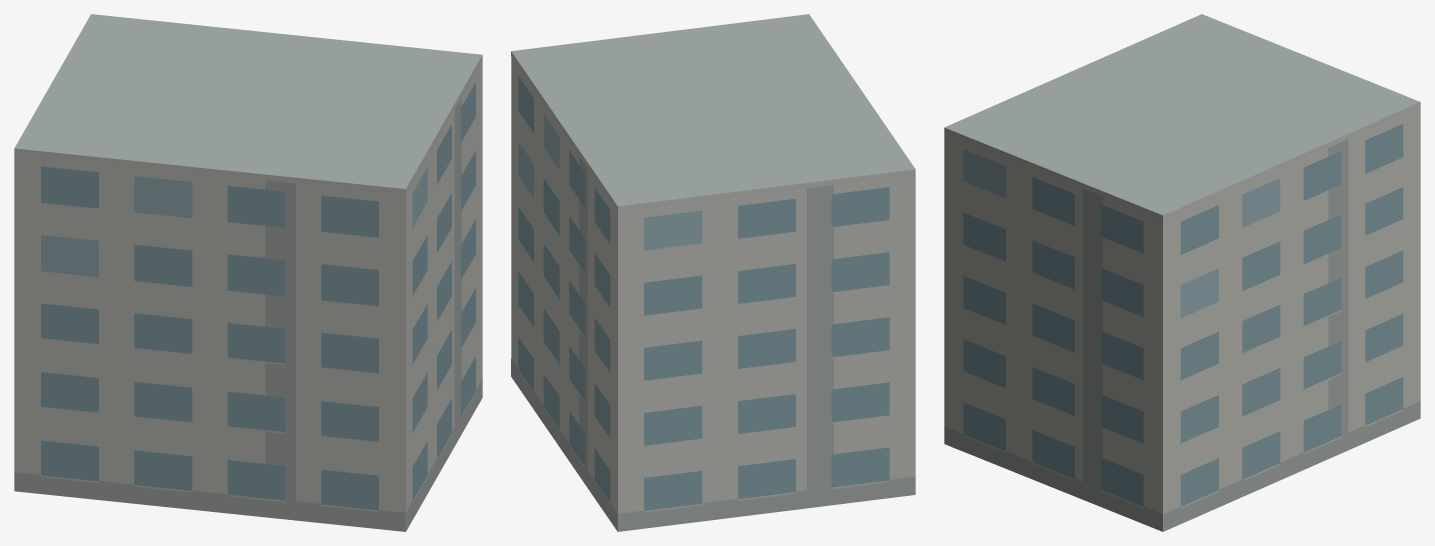
Rendered from survey-upis-32739746.glb.
3 renders of one model, left to right at view 1: azimuth 30°, elevation 25°; view 2: azimuth 150°, elevation 25°; view 3: azimuth 270°, elevation 25°, orthographic. The views are drawn at different scales.
Visible parts, largest first — view 1: survey-upis-32739746.tmp; view 2: survey-upis-32739746.tmp; view 3: survey-upis-32739746.tmp.
Boxes of the visible parts, left/top/right/bottom form: survey-upis-32739746.tmp: left=14, top=14, right=482, bottom=531; survey-upis-32739746.tmp: left=511, top=14, right=915, bottom=531; survey-upis-32739746.tmp: left=944, top=14, right=1420, bottom=531.
Size of the model in its own units: 19.67 by 14.4 by 19.66.
